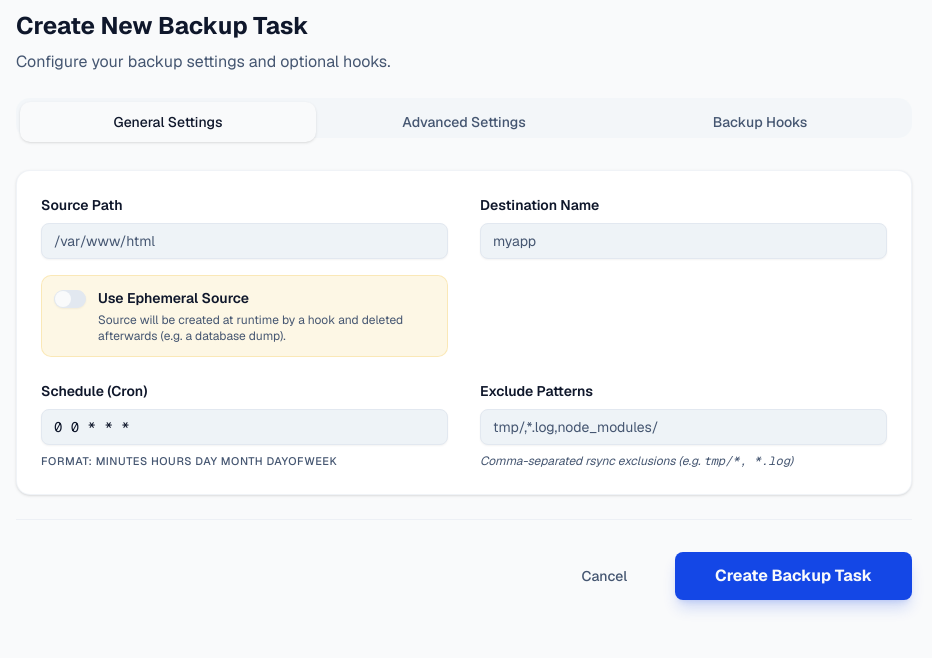
Test case: CreateBackupForm › Form Validation › shows validation errors for empty required fields
Click the button "Create Backup Task".
click(794, 576)  # box top-left (675, 552), bottom-right (912, 600)
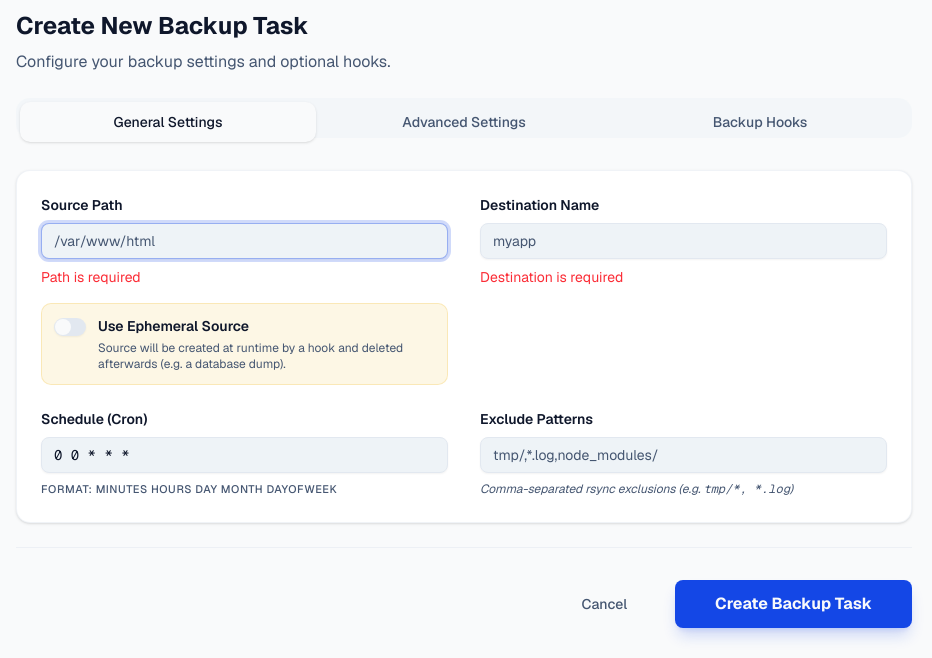
Now the text "Path is required" is shown, box top-left (41, 268), bottom-right (141, 286)
Now the text "Destination is required" is shown, box top-left (480, 268), bottom-right (623, 286)
